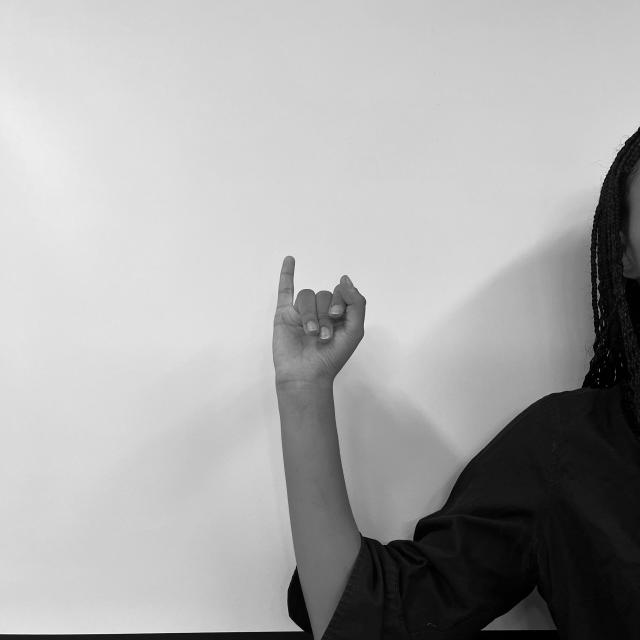Letra I: (269, 252, 370, 379)
